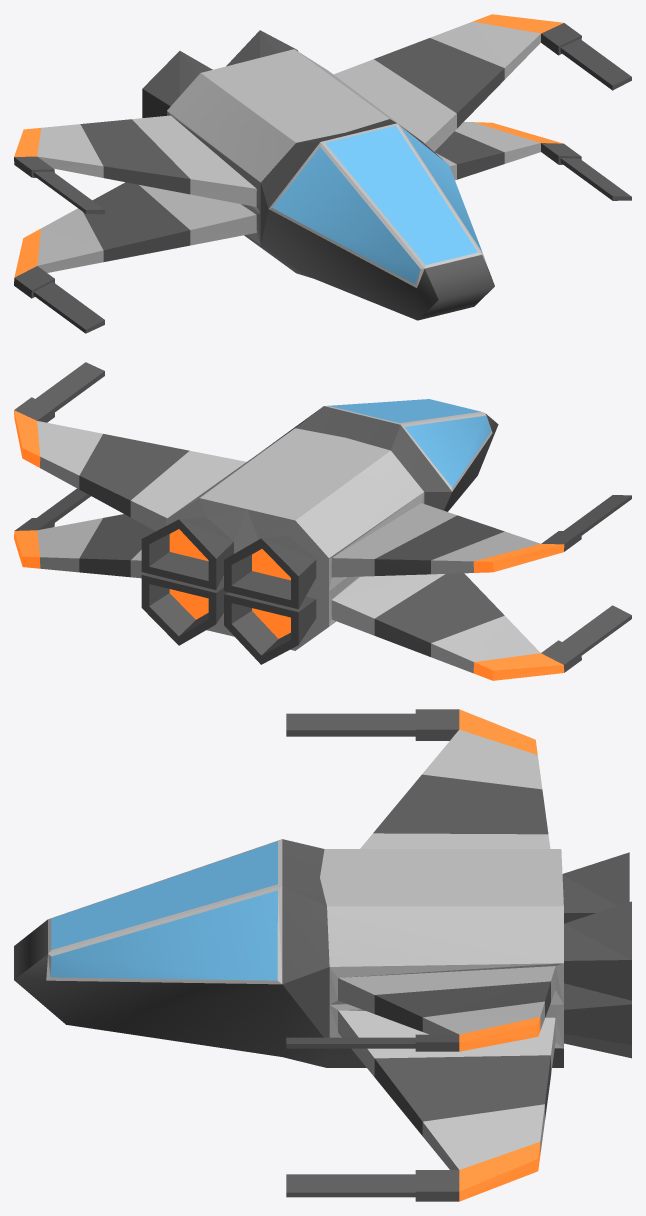
Rendered from ship.glb.
3 views of the same model, one above another, from view 1: azimuth 30°, elevation 25°; view 2: azimuth 150°, elevation 25°; view 3: azimuth 270°, elevation 25° (orthographic). The views are drawn at different scales.
Visible parts, largest first — view 1: Box003_03 - Default_0, Box003_Material #25_0, Box003_01 - Default_0, Box003_Material #26_0, Box003_08 - Default_0, Box003_02 - Default_0; view 2: Box003_03 - Default_0, Box003_Material #25_0, Box003_02 - Default_0, Box003_01 - Default_0, Box003_Material #26_0, Box003_08 - Default_0; view 3: Box003_03 - Default_0, Box003_Material #25_0, Box003_01 - Default_0, Box003_Material #26_0, Box003_02 - Default_0, Box003_08 - Default_0.
Part boxes in pixels (x1=…): Box003_03 - Default_0: x1=14, y1=23, x2=631, y2=333; Box003_Material #25_0: x1=37, y1=21, x2=540, y2=272; Box003_01 - Default_0: x1=272, y1=126, x2=482, y2=283; Box003_Material #26_0: x1=201, y1=61, x2=344, y2=142; Box003_08 - Default_0: x1=269, y1=123, x2=488, y2=287; Box003_02 - Default_0: x1=14, y1=14, x2=563, y2=277; Box003_03 - Default_0: x1=14, y1=362, x2=631, y2=672; Box003_Material #25_0: x1=37, y1=421, x2=540, y2=673; Box003_02 - Default_0: x1=14, y1=410, x2=564, y2=680; Box003_01 - Default_0: x1=329, y1=399, x2=490, y2=487; Box003_Material #26_0: x1=248, y1=437, x2=390, y2=520; Box003_08 - Default_0: x1=324, y1=403, x2=492, y2=491; Box003_03 - Default_0: x1=14, y1=709, x2=631, y2=1201; Box003_Material #25_0: x1=320, y1=729, x2=563, y2=1169; Box003_01 - Default_0: x1=50, y1=841, x2=277, y2=980; Box003_Material #26_0: x1=320, y1=849, x2=562, y2=877; Box003_02 - Default_0: x1=459, y1=709, x2=540, y2=1201; Box003_08 - Default_0: x1=46, y1=839, x2=282, y2=984.
Bounding box in the file's own units: 28.56 × 7.04 × 22.4.
